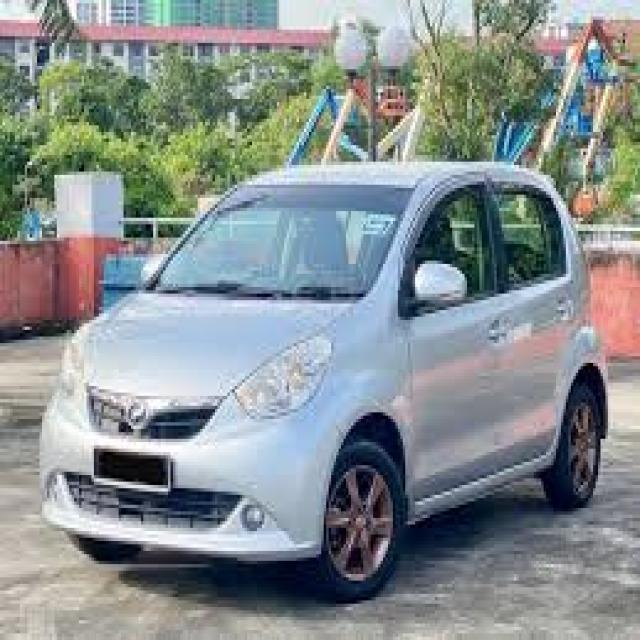PeroduaMyvi: (37, 155, 610, 600)
